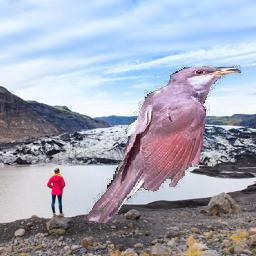Cuckoo: (87, 66, 241, 227)
